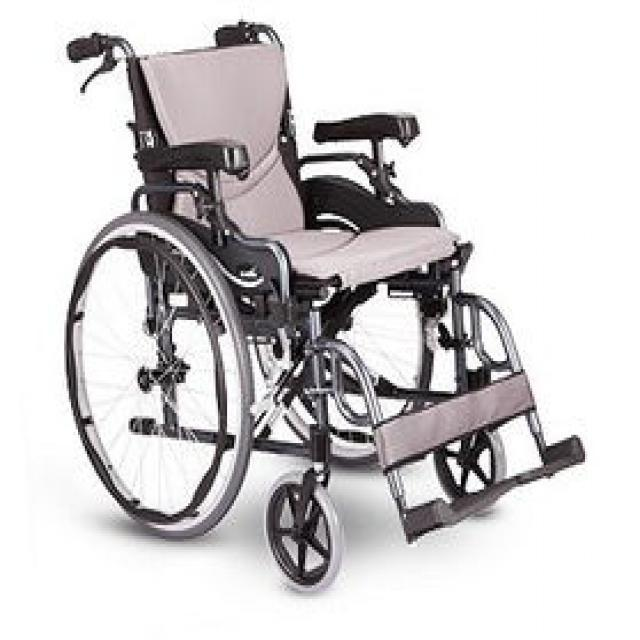wheelchair: (53, 16, 601, 602)
